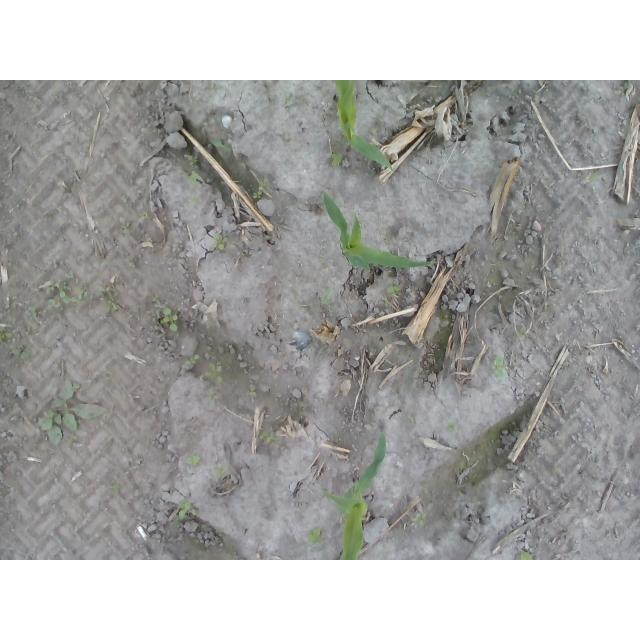Maize: (322, 191, 435, 274), (322, 430, 387, 560), (335, 80, 396, 173)
Weeds: (34, 384, 113, 447), (47, 270, 95, 313), (150, 294, 178, 333), (94, 281, 122, 315), (247, 174, 272, 200), (173, 495, 191, 529), (202, 361, 225, 385), (24, 301, 49, 323), (207, 138, 233, 157), (491, 356, 508, 377), (257, 431, 281, 445), (15, 343, 33, 361), (182, 354, 201, 371), (458, 458, 479, 472), (215, 235, 232, 252), (0, 327, 16, 345), (331, 151, 346, 170), (411, 511, 426, 529), (307, 527, 321, 545), (185, 454, 204, 467), (184, 171, 200, 186), (111, 481, 128, 495), (384, 281, 400, 295), (587, 171, 602, 185), (188, 154, 200, 170), (517, 550, 536, 560), (214, 464, 225, 481), (320, 288, 330, 305), (119, 224, 129, 241), (515, 324, 529, 336), (617, 81, 628, 96), (208, 390, 217, 407), (368, 126, 381, 136), (448, 419, 457, 433), (247, 387, 258, 398), (191, 194, 201, 206), (552, 463, 561, 475), (408, 415, 417, 425), (282, 96, 289, 105), (384, 300, 389, 309)
